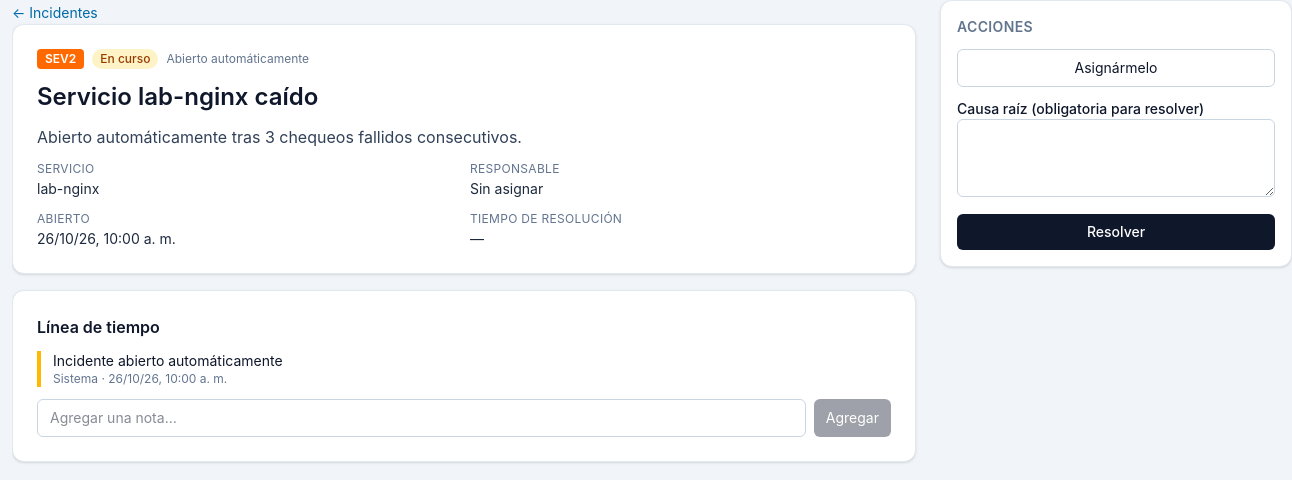
IncidentDetailPage › CA-1: resolver sin causa raíz muestra el 409 del backend
The width and height of the screenshot is (1292, 480).
Check: the heading "Servicio lab-nginx caído" is shown, box [37, 82, 318, 111]
Check: the text "Incidente abierto automáticamente" is shown, box [53, 352, 283, 369]
Click the button "Resolver": click(1116, 232) [957, 214, 1275, 250]
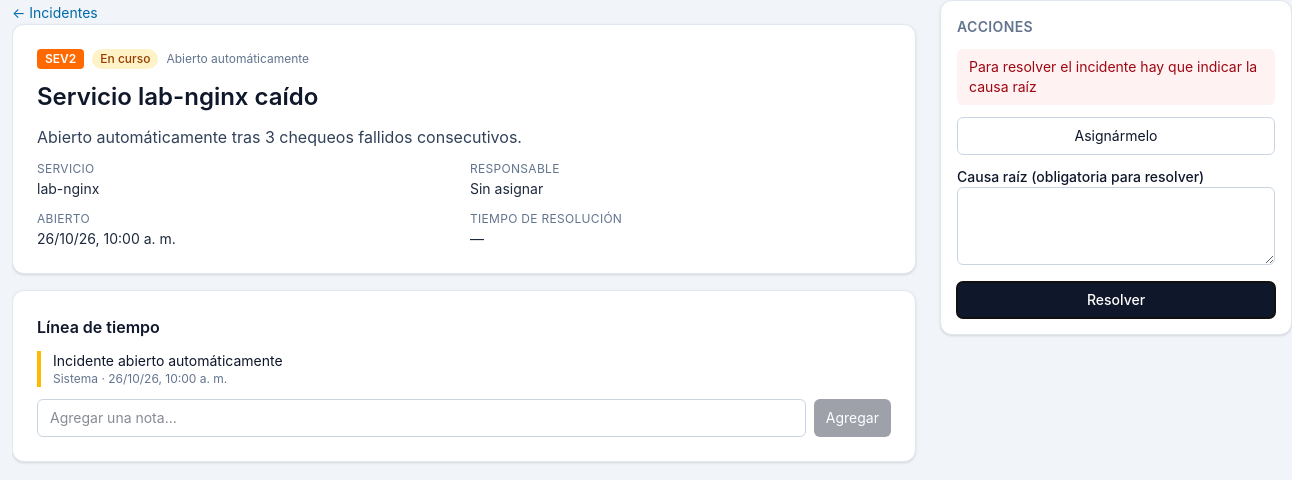
Check: the message reads "Para resolver el incidente hay que indicar la causa raíz", box [969, 58, 1257, 95]
